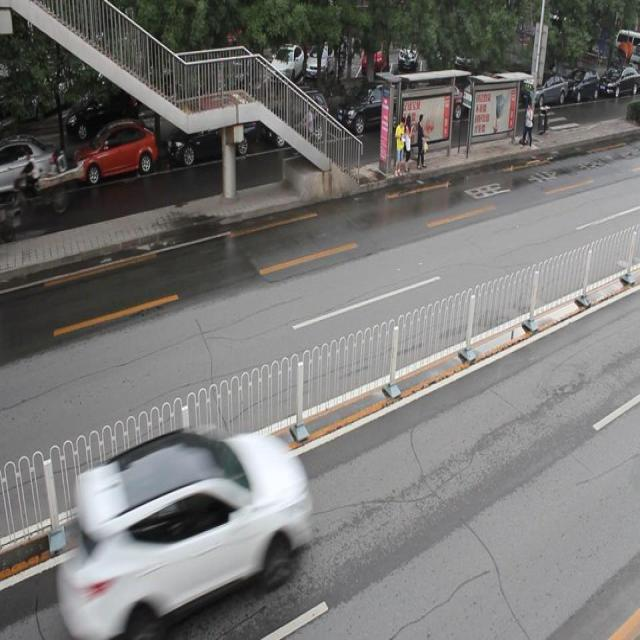car: (73, 424, 310, 640), (74, 119, 158, 184), (168, 103, 252, 165), (262, 90, 330, 148), (336, 80, 406, 136), (1, 135, 58, 199)
